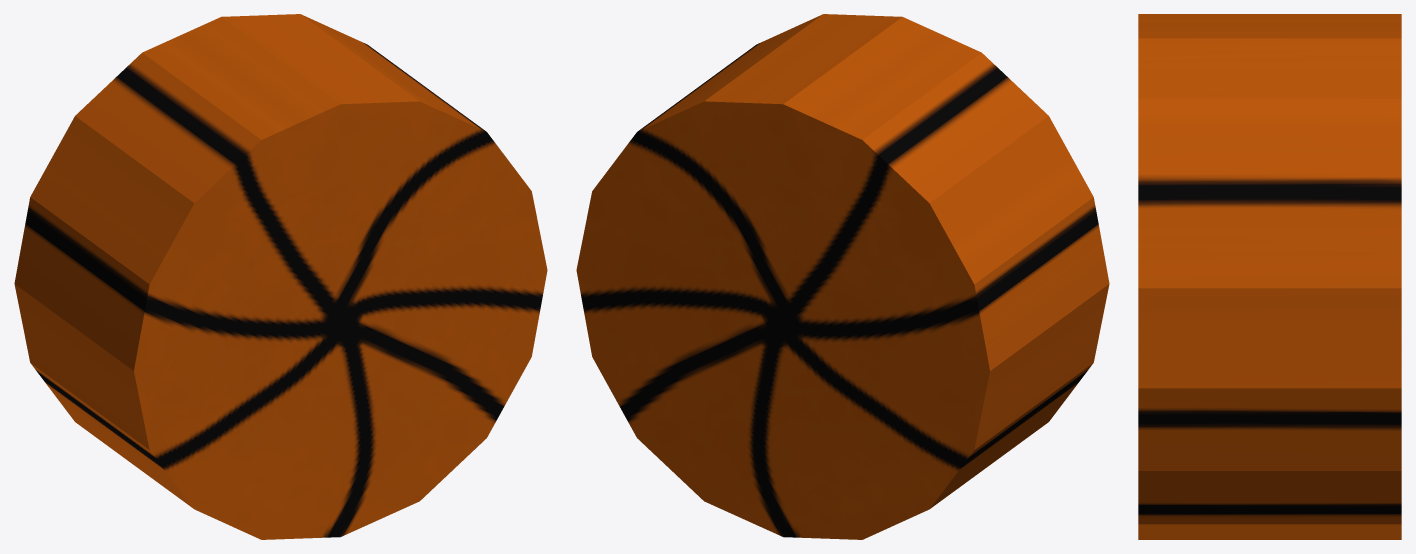
The model's file is Ball.obj.
3 renders of one model, left to right at view 1: azimuth 30°, elevation 25°; view 2: azimuth 150°, elevation 25°; view 3: azimuth 270°, elevation 25°, orthographic. The views are drawn at different scales.
Parts seen in each view (by area): view 1: Circle; view 2: Circle; view 3: Circle.
Boxes of the visible parts, x1=… form: Circle: x1=14, y1=14, x2=547, y2=539; Circle: x1=576, y1=14, x2=1109, y2=539; Circle: x1=1138, y1=14, x2=1401, y2=539.
Bounding box in the file's own units: 2 × 2 × 1.
